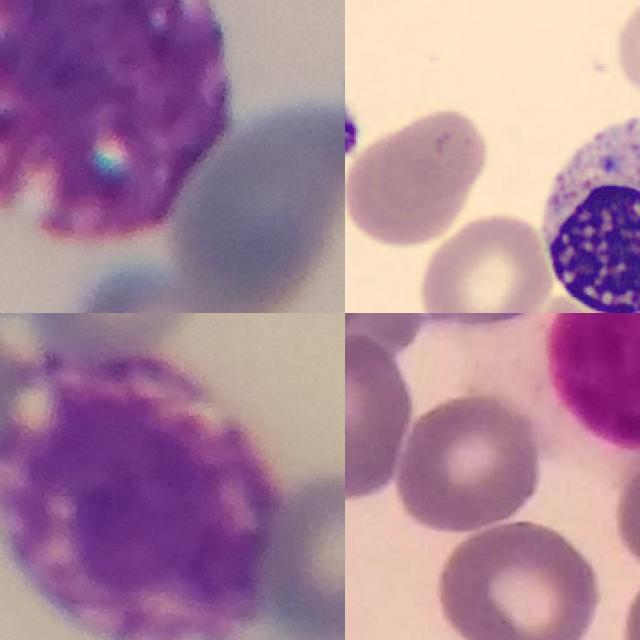Basophil: (0, 352, 281, 640), (0, 0, 233, 250)
Lymphocyte: (546, 313, 640, 456)
Monocyte: (528, 102, 640, 313)
Platelets: (345, 104, 363, 164)
RBC: (345, 103, 494, 247), (414, 208, 555, 313), (604, 0, 640, 103)
